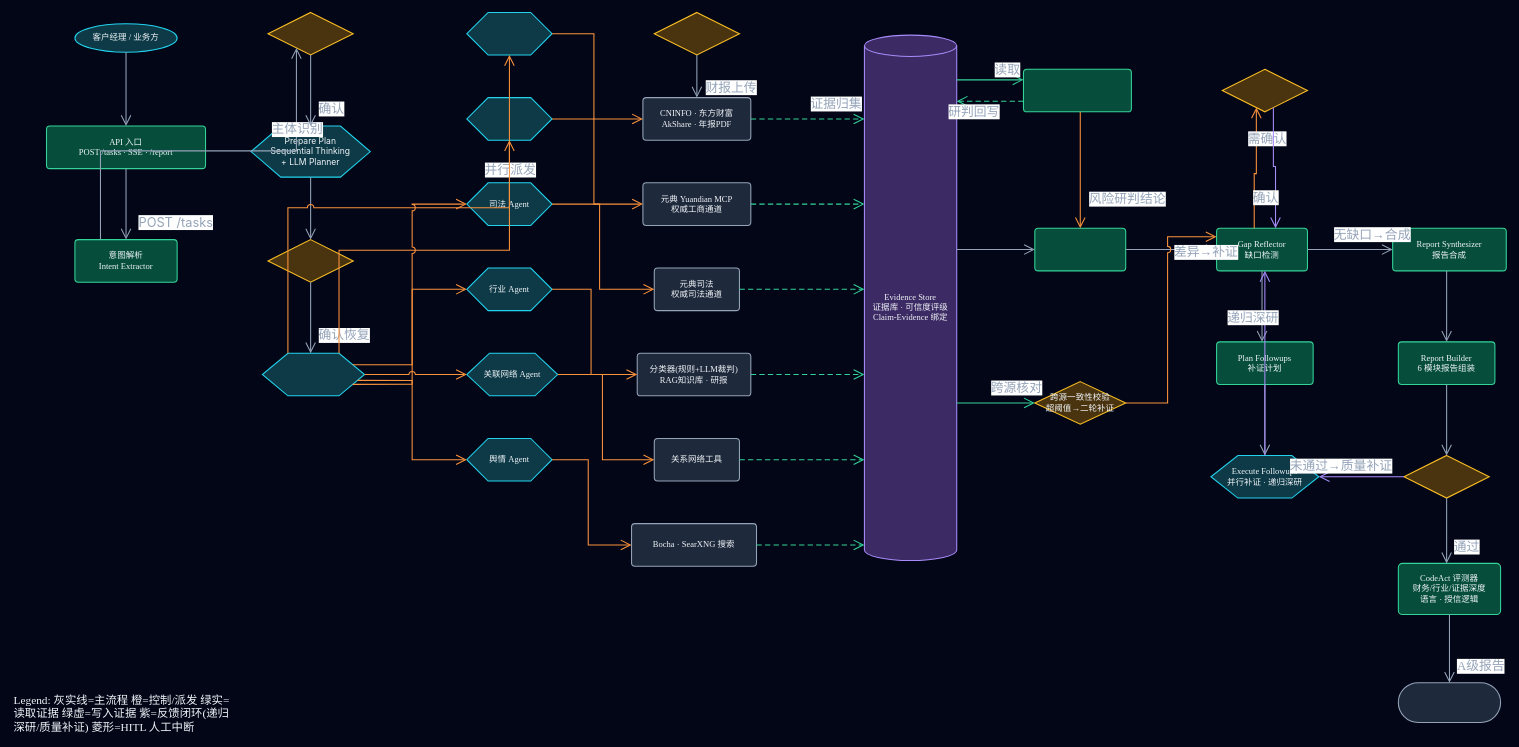
This 1519x747 diagram has some shape labels left out. Each missing label, with the box of its shape:
Claim Builder 结论-证据绑定: (1034, 227, 1126, 271)
Execute Round 1 并行首轮研究: (261, 352, 365, 396)
HITL 主体确认: (267, 12, 353, 55)
HITL 计划确认: (267, 239, 353, 282)
HITL 证据缺口确认: (1221, 68, 1308, 112)
HITL 财报/流水上传: (653, 12, 740, 55)
Quality Gate 前置质量门: (1403, 455, 1489, 498)
Rebecca 规则引擎 财务指标 · 风险研判: (1023, 68, 1132, 112)
工商 Agent: (466, 97, 552, 140)
报告发布 DOCX · PDF · MD: (1397, 682, 1501, 723)
财务 Agent 上市 / 非上市: (466, 12, 552, 55)
